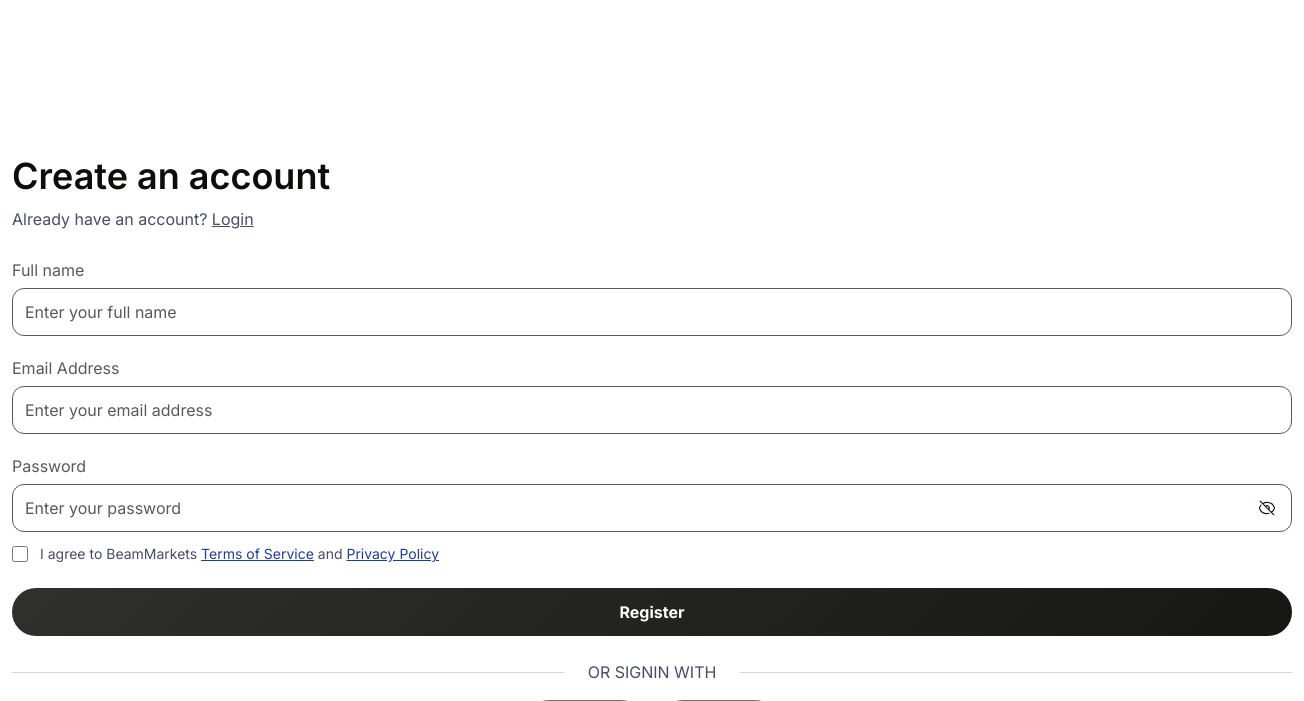
Test: Register Page Tests › Displays validation errors when form is submitted with empty fields
Step 1. Click the button "Register" → click(652, 612), box [12,588,1292,636]
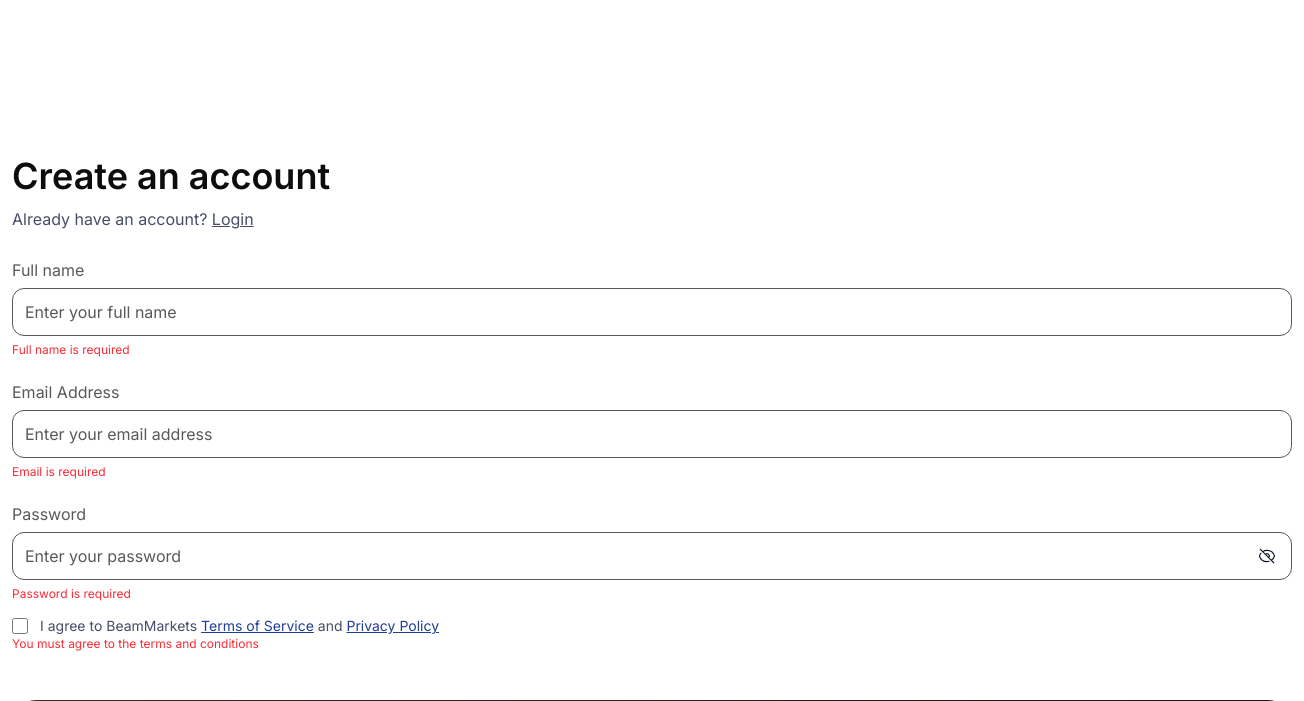
Check: the text "Email is required" is shown, box [12,464,106,479]
Check: the text "Full name is required" is shown, box [12,342,130,357]
Check: the text "Password is required" is shown, box [12,586,131,601]
